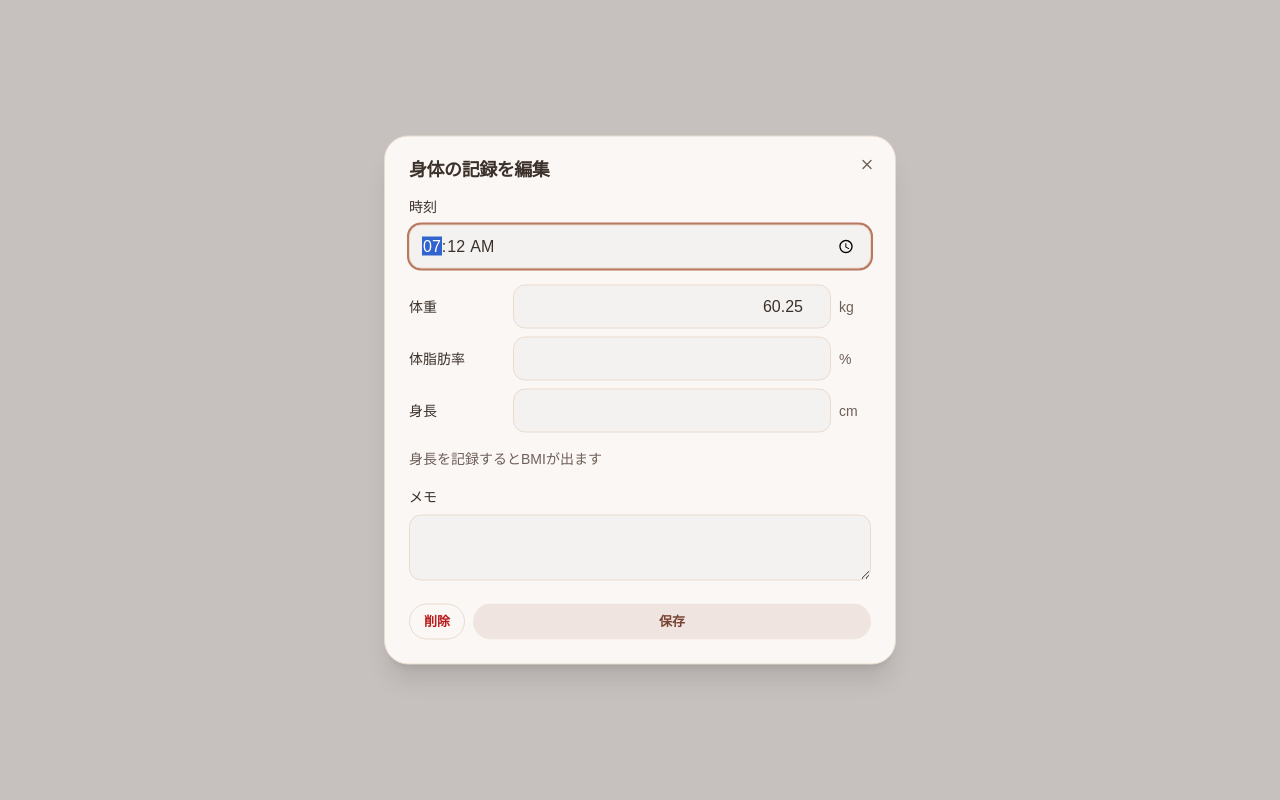
Test: ModuleRecordDialog › validates a stored value again once the field is edited
The image size is (1280, 800).
Replace the text in the number field labelled "体重" with "60.35": (672, 306) [513,284,831,328]
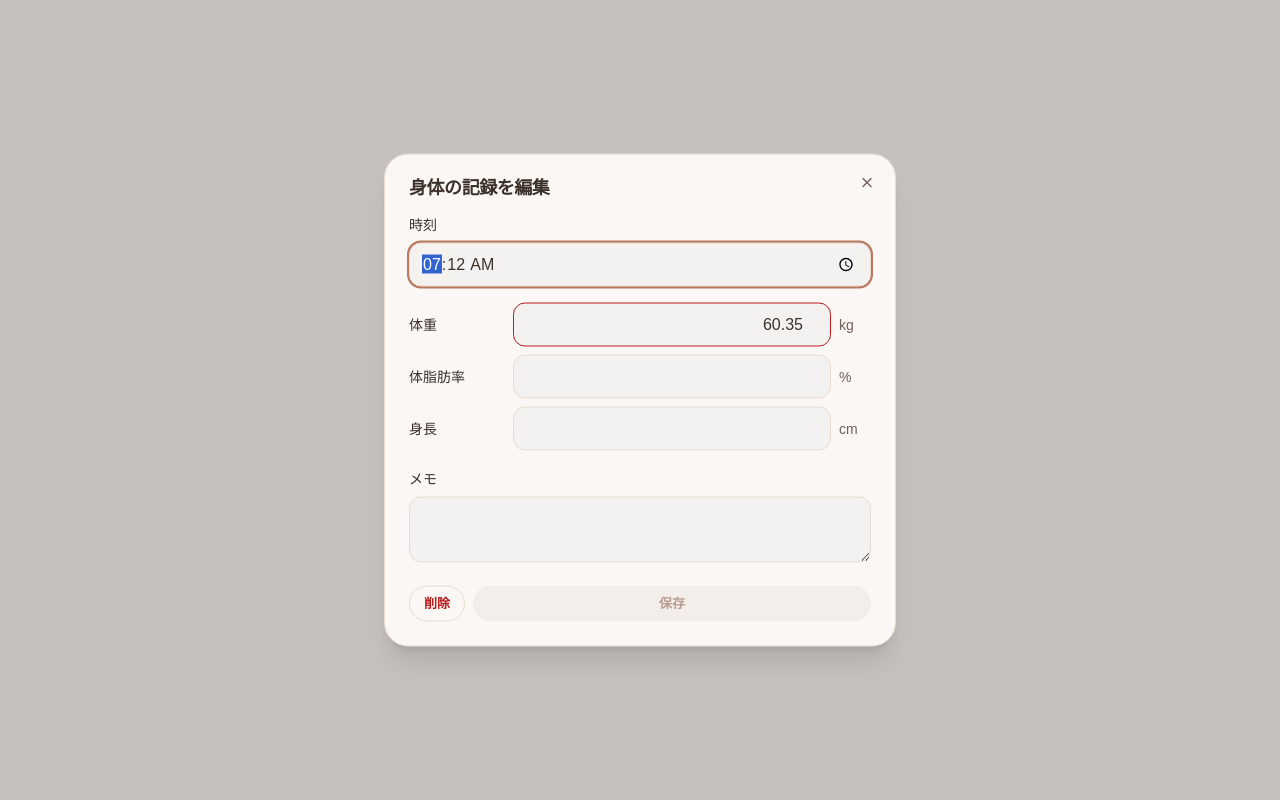
Check: the button "保存" is disabled, box [473,586,871,622]
